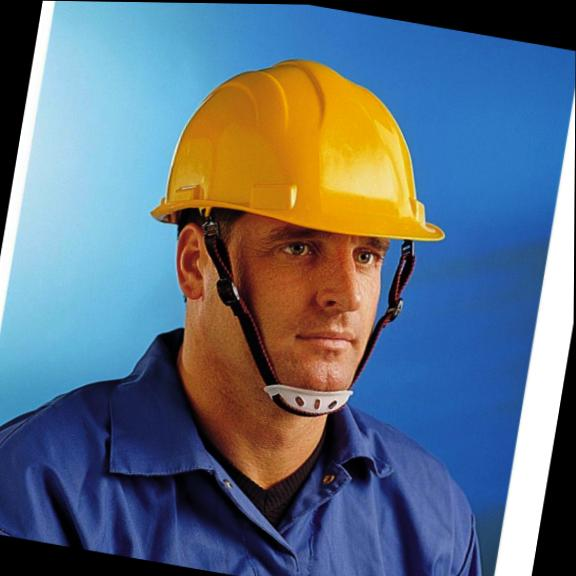no_safety_vest: (0, 355, 509, 576)
